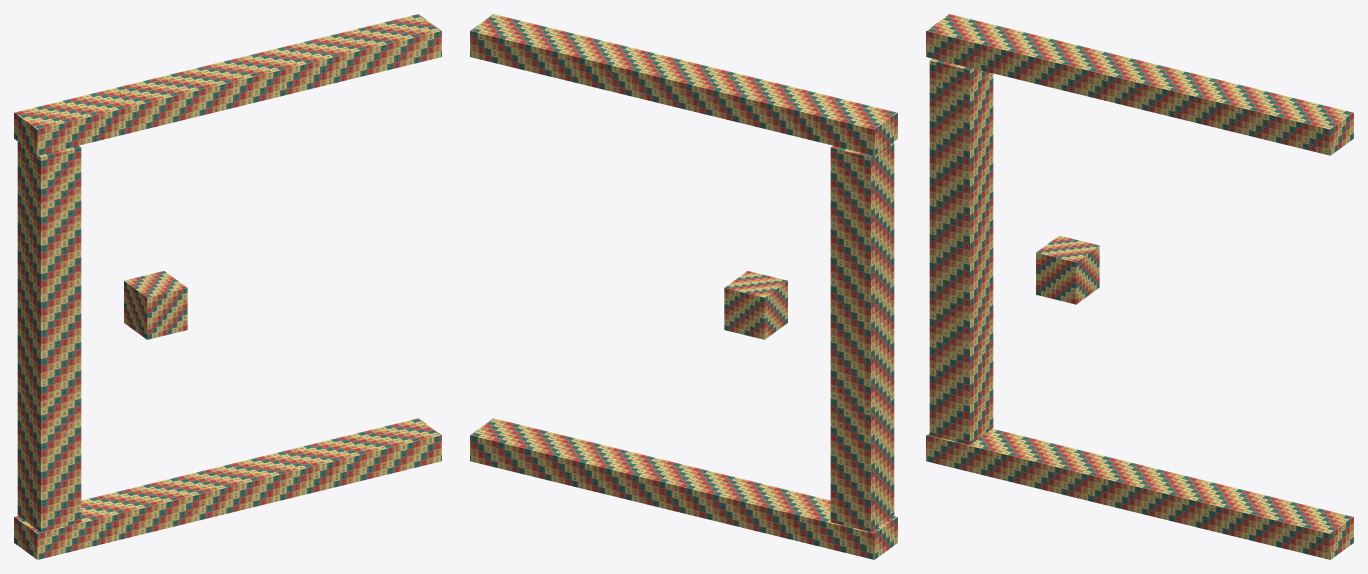
The model's file is map_rest.obj.
The picture shows the model from 3 angles, left to right: view 1: azimuth 30°, elevation 25°; view 2: azimuth 150°, elevation 25°; view 3: azimuth 330°, elevation 25°; orthographic projection.
Parts seen in each view (by area): view 1: Cube.004_Cube.005, Cube.003_Cube.004, Cube.002_Cube.003, Cube.001_Cube.002; view 2: Cube.004_Cube.005, Cube.003_Cube.004, Cube.002_Cube.003, Cube.001_Cube.002; view 3: Cube.004_Cube.005, Cube.003_Cube.004, Cube.002_Cube.003, Cube.001_Cube.002.
Boxes of the visible parts, box(x1,y1,x2,y2) form: Cube.004_Cube.005: box(17, 141, 81, 531); Cube.003_Cube.004: box(14, 14, 441, 155); Cube.002_Cube.003: box(14, 418, 441, 559); Cube.001_Cube.002: box(124, 271, 187, 339); Cube.004_Cube.005: box(830, 141, 894, 531); Cube.003_Cube.004: box(470, 14, 897, 155); Cube.002_Cube.003: box(470, 418, 897, 559); Cube.001_Cube.002: box(724, 271, 787, 339); Cube.004_Cube.005: box(929, 58, 993, 444); Cube.003_Cube.004: box(926, 14, 1353, 155); Cube.002_Cube.003: box(926, 428, 1353, 559); Cube.001_Cube.002: box(1036, 235, 1099, 304).
Bounding box in the file's own units: 20.05 × 20.38 × 2.
Materials: 1 (1 with a texture image).
